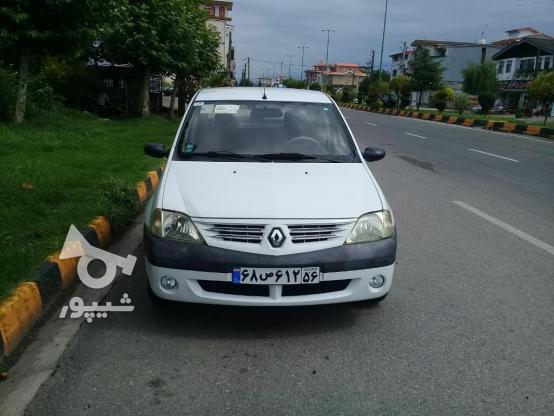car: (232, 265, 321, 286)
